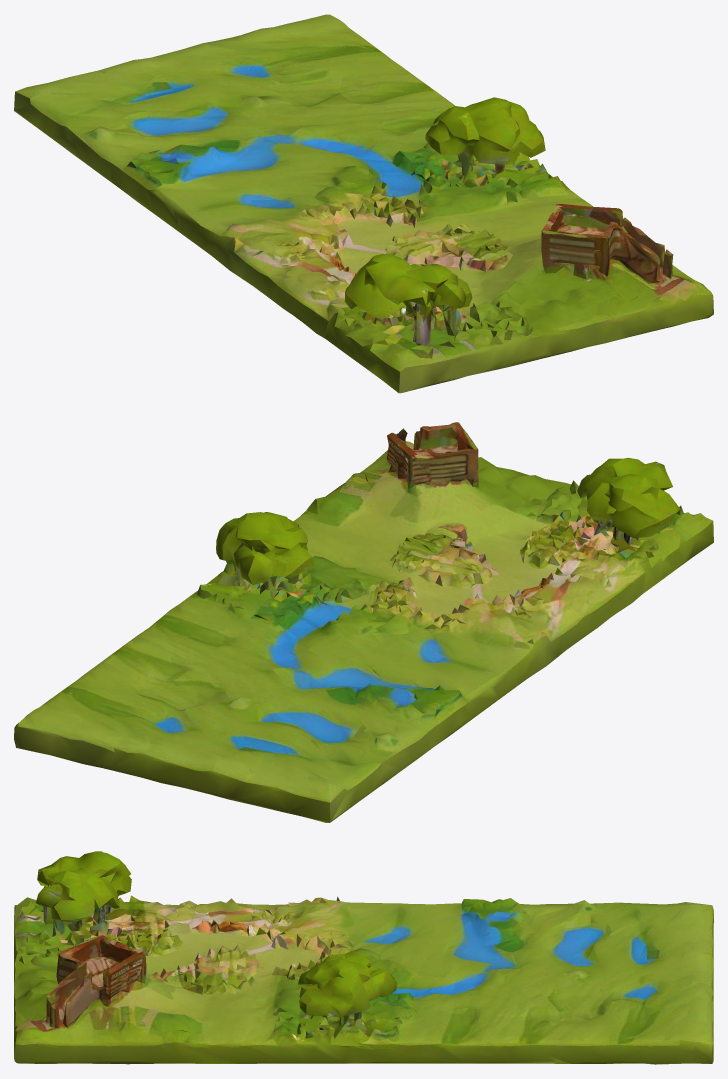
File: kushiro-shitsugen.glb
The picture shows the model from 3 angles, top to bottom: view 1: azimuth 30°, elevation 25°; view 2: azimuth 150°, elevation 25°; view 3: azimuth 270°, elevation 25°; orthographic projection. The views are drawn at different scales.
Visible parts, largest first — view 1: logan-textured.obj; view 2: logan-textured.obj; view 3: logan-textured.obj.
Boxes of the visible parts, <box> form: logan-textured.obj: <box>14,14,713,393</box>; logan-textured.obj: <box>14,422,713,822</box>; logan-textured.obj: <box>14,851,713,1064</box>.
Bounding box in the file's own units: 0.4785 × 0.1346 × 1.
Materials: 1 (1 with a texture image).
